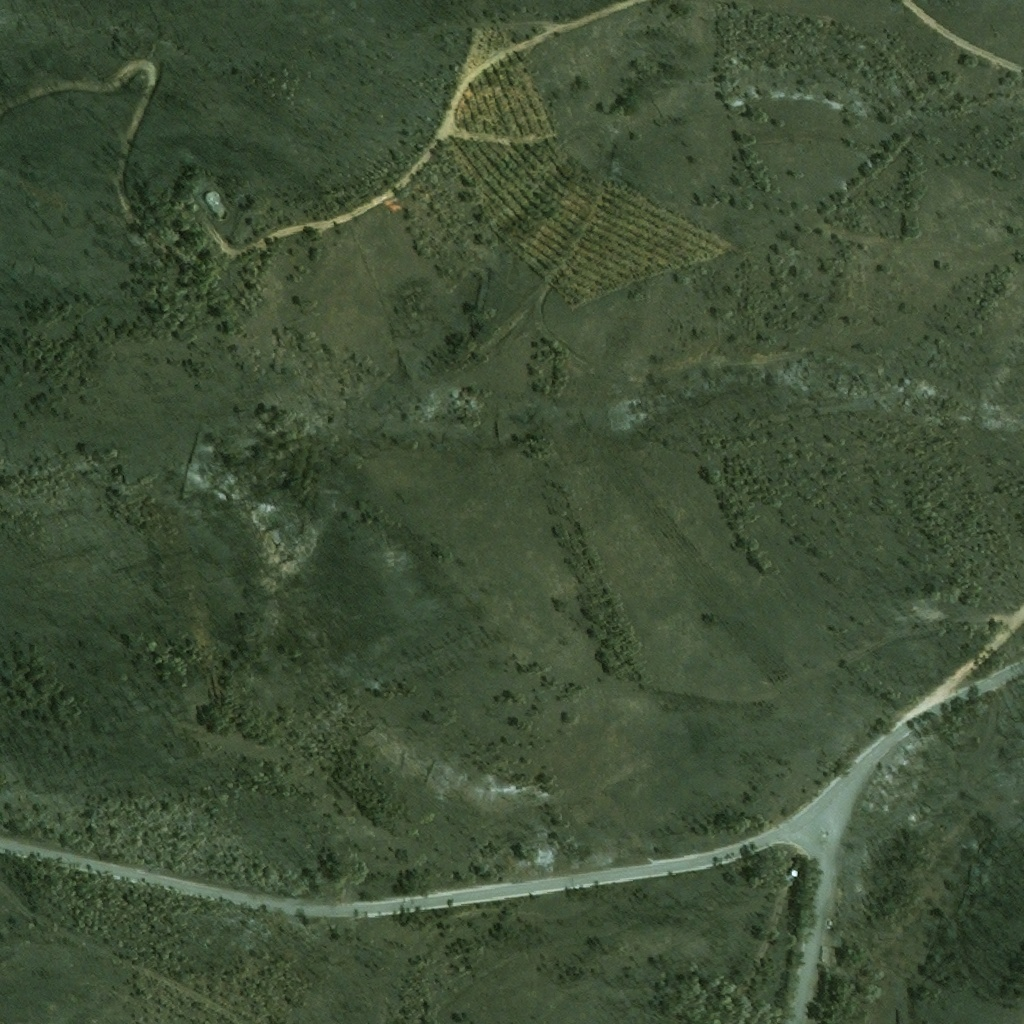0 no-damage: (205, 190, 225, 214)
